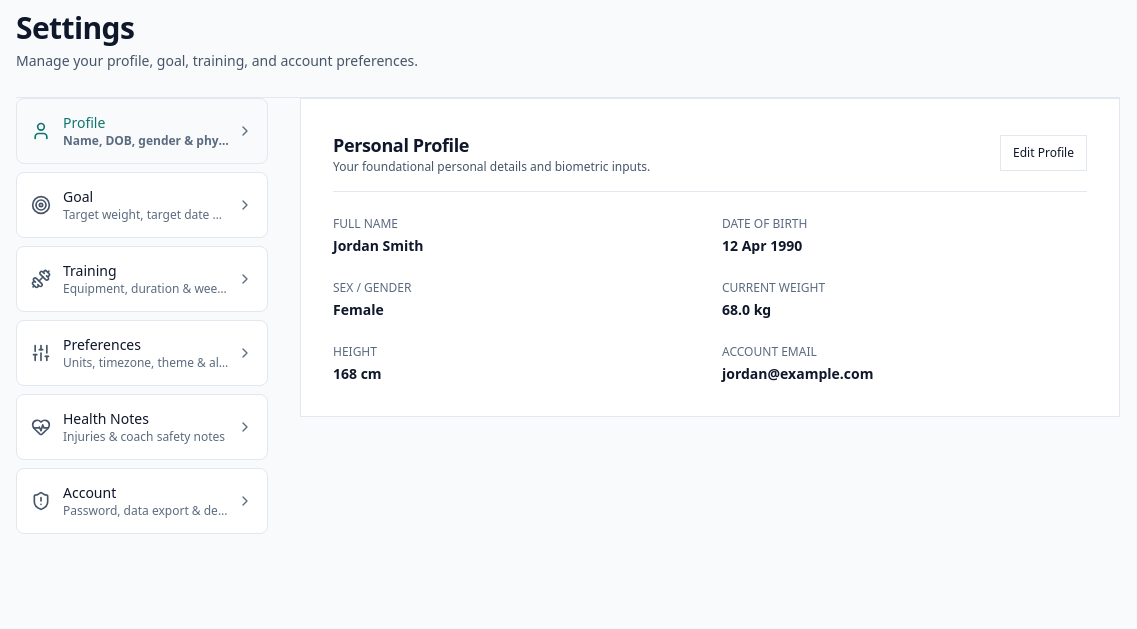
Test: Milestone M9 — Rebuilt Settings Screen (/settings) › navigates to Health Notes section and displays AI Coach disclosure
The width and height of the screenshot is (1137, 629).
Check: the text "12 Apr 1990" is shown, box [722,236,802,255]
Note: Switch to Health tab
Click the button "Health Notes Injuries & coach safety notes".
click(142, 427)  # box [16,394,268,460]
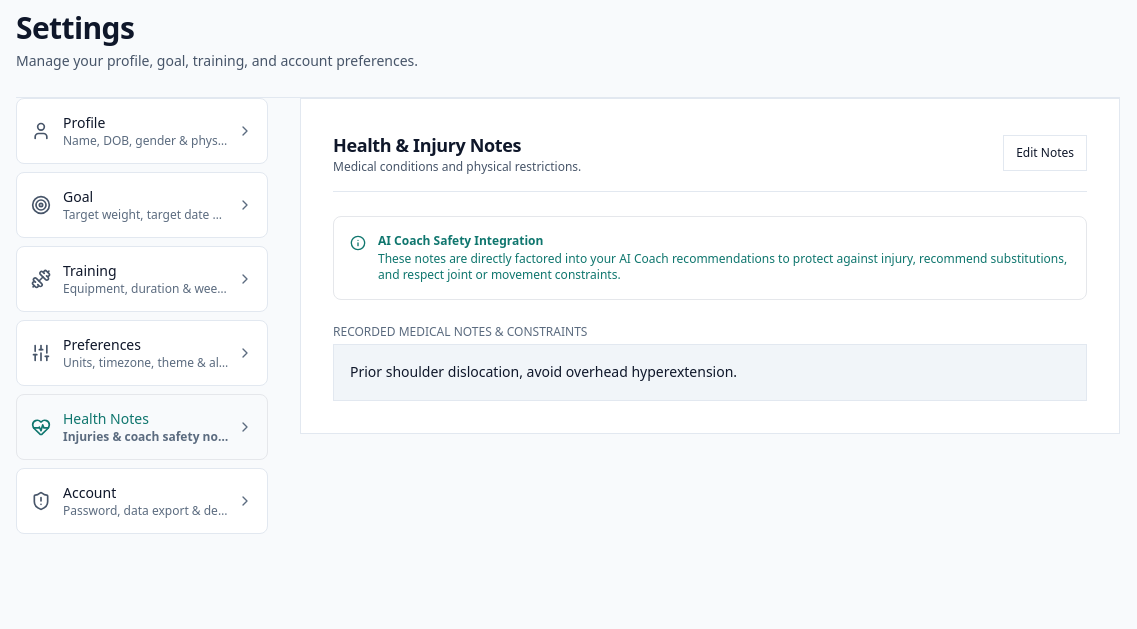
Check: the heading "Health & Injury Notes" is shown, box [333,133,521,157]
Check: the text "AI Coach Safety Integration" is shown, box [378,232,543,249]
Check: the text "These notes are directly factored into your AI Coach recommendations" is shown, box [378,250,1067,283]
Note: Edit and save notes
Click the button "Edit Notes".
click(1045, 153)  # box [1003,135,1087,171]
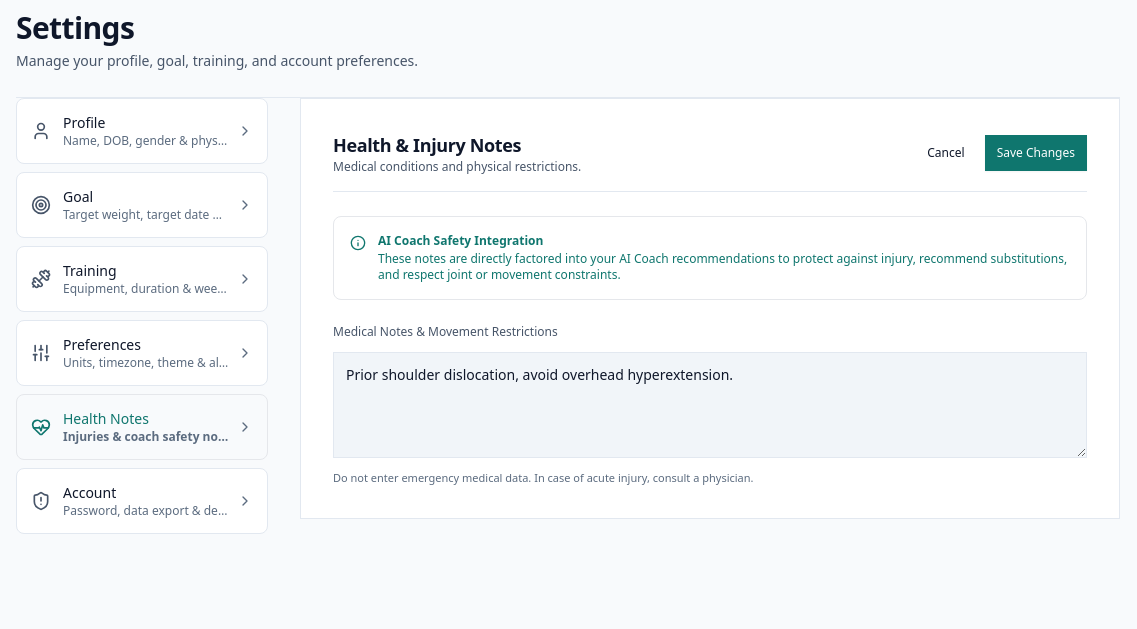
Replace the text in the text box with placeholder "Lower back stiffness" with "Updated shoulder recovery note" at [710, 405], box [333,352,1087,458]
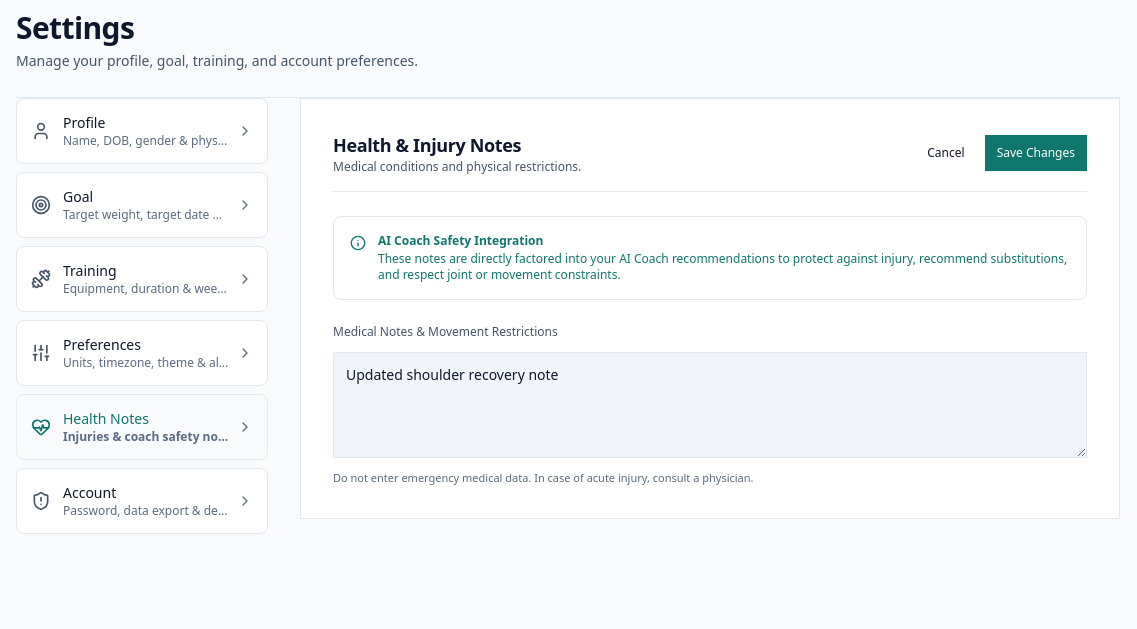
Click the button "Save Changes".
click(1036, 153)  # box [985,135,1087,171]
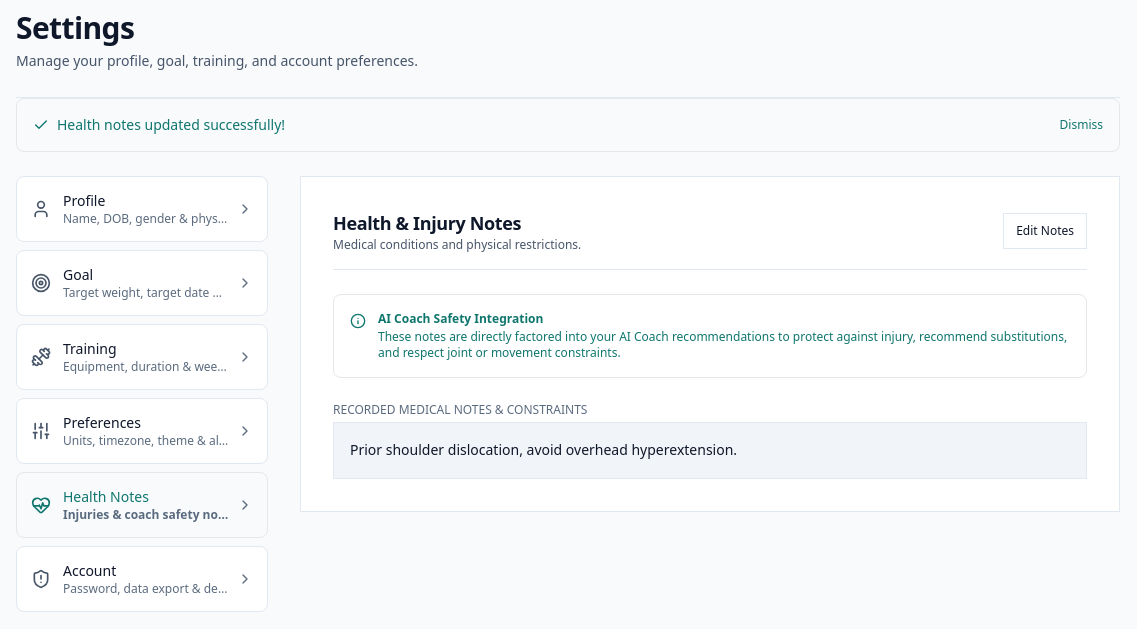
Check: the text "Health notes updated successfully!" is shown, box [57,115,285,135]
